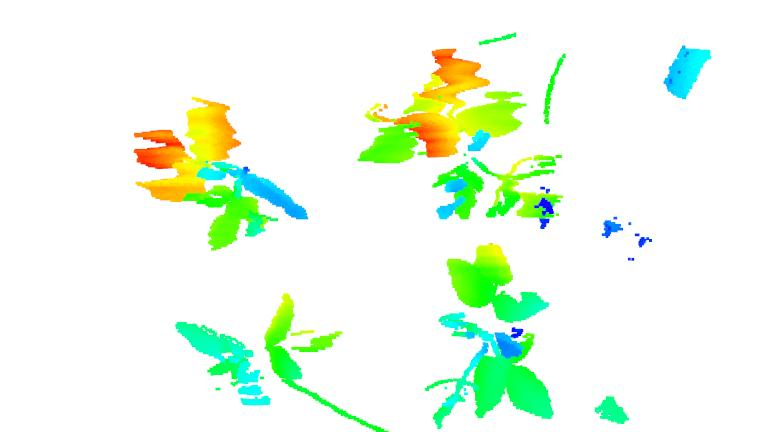mungbean: (350, 40, 566, 226), (131, 92, 308, 253), (421, 236, 560, 432), (164, 287, 346, 413)
